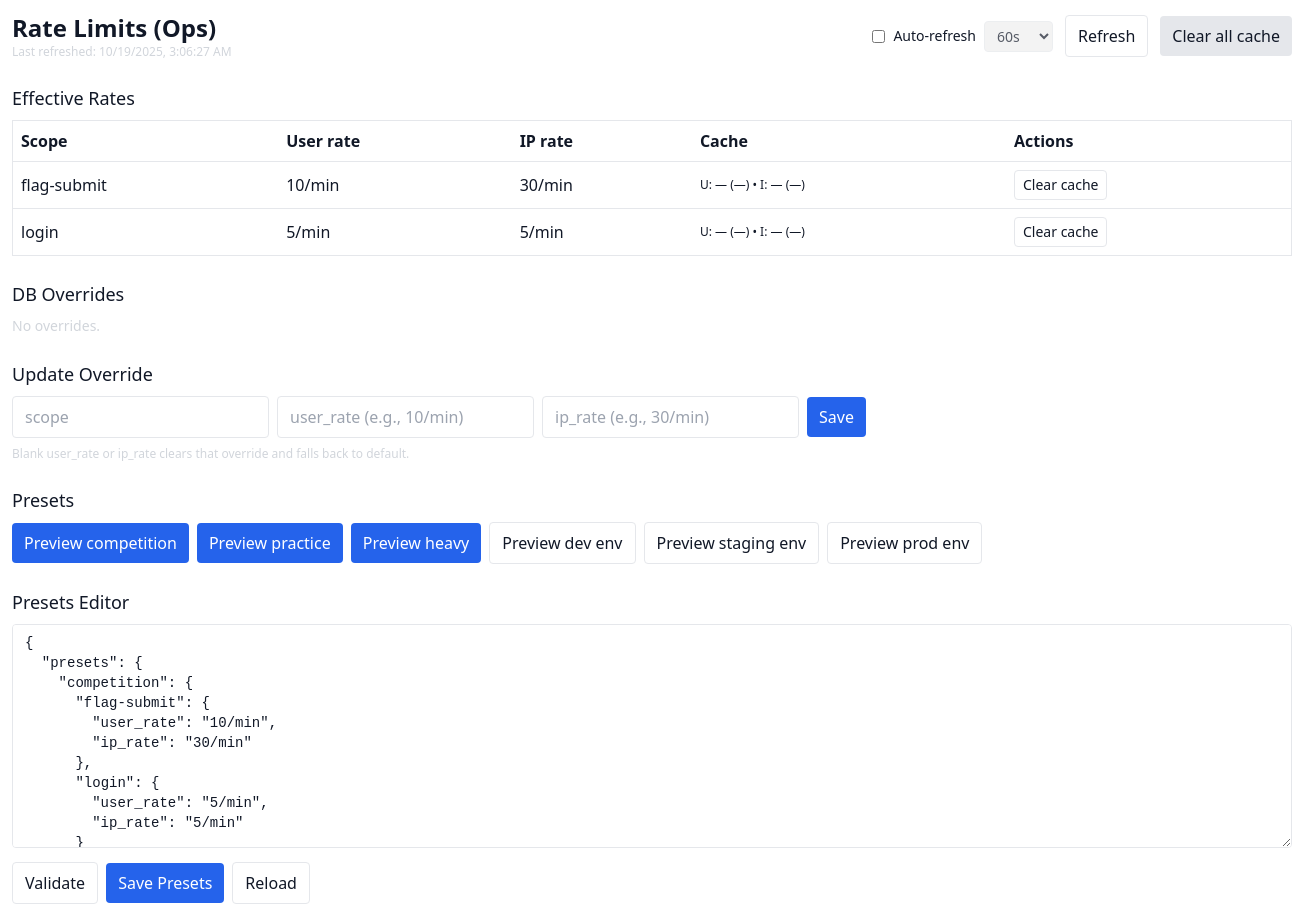
Ops Rate Limits presets flows › Validate presets success shows success toast
Expected: the heading "Rate Limits (Ops)" is shown, [12,12,232,44]
Click the button "Validate": (55, 883) [12,862,98,904]
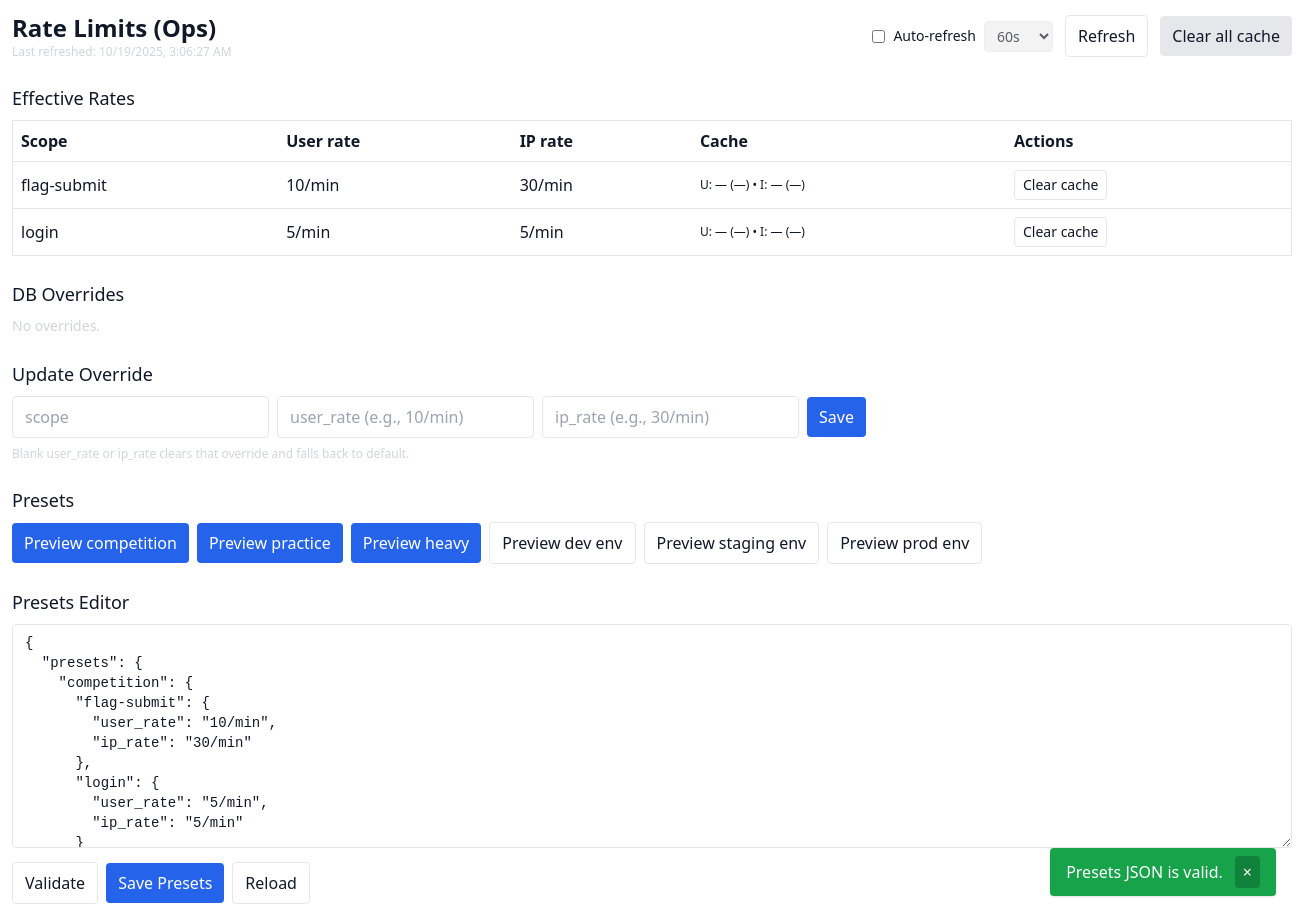
Result: the text "Presets JSON is valid." is shown at [1066,860,1223,884]
